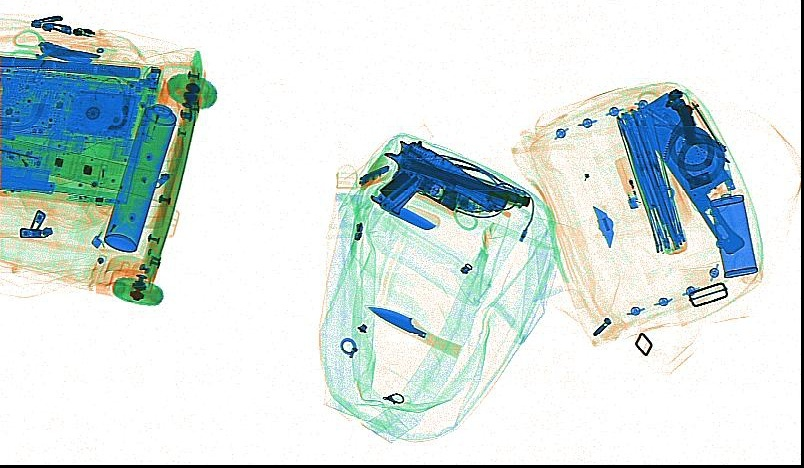handcuffs: (662, 88, 725, 188)
knife: (630, 91, 744, 254), (363, 304, 461, 359), (688, 98, 723, 153), (382, 201, 440, 230), (1, 166, 54, 193), (40, 40, 91, 63)
lighter: (614, 156, 641, 208)
pressure: (102, 103, 177, 252)
scissors: (633, 89, 730, 163), (10, 28, 100, 66)
zippooil: (709, 191, 757, 277)
